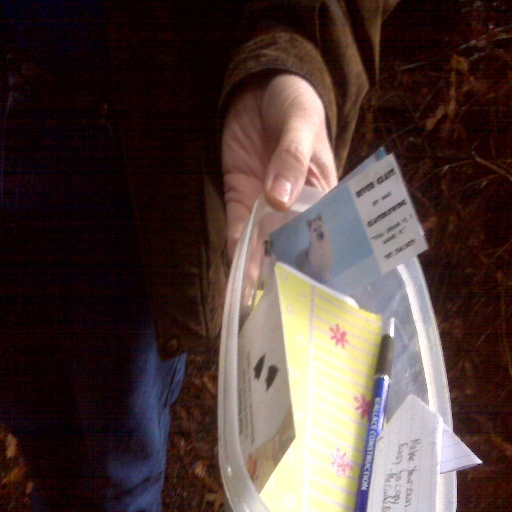hand: (208, 44, 366, 267)
